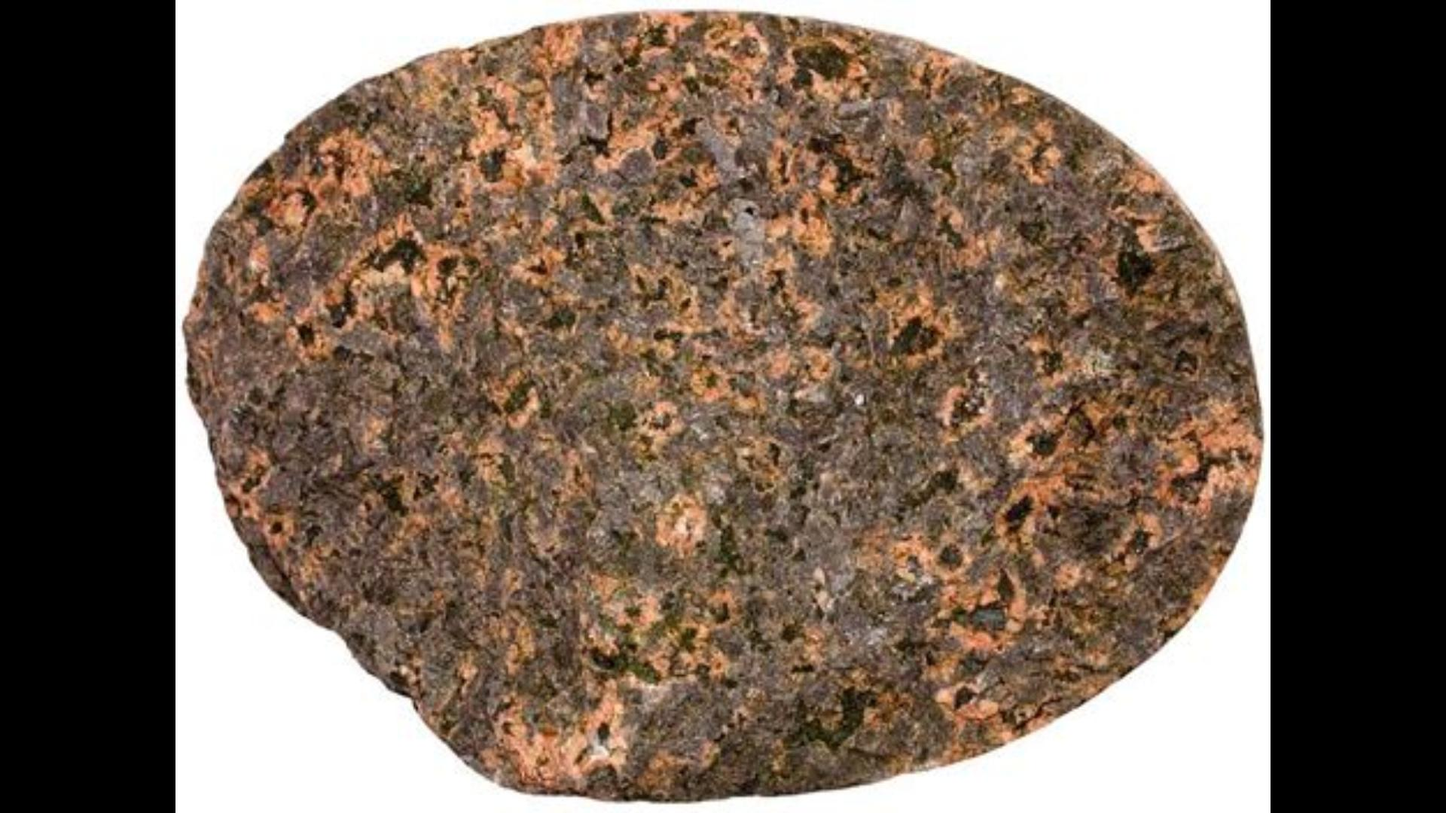rock: (187, 14, 1252, 790)
